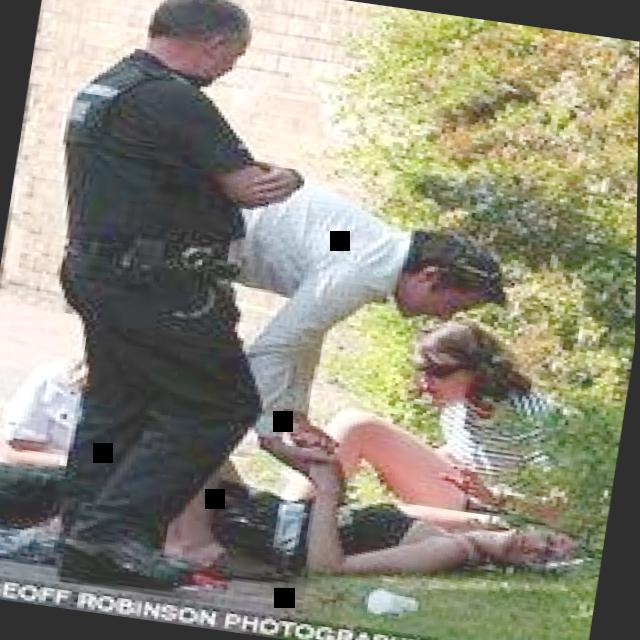Fall-Detected: (144, 384, 621, 618)
